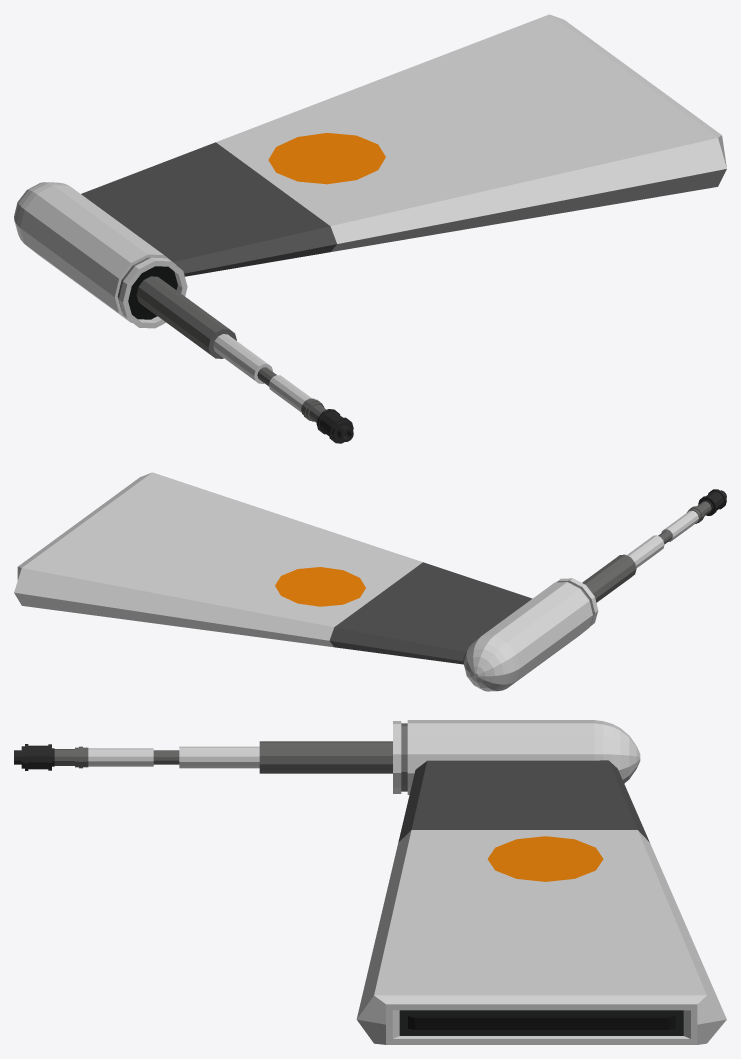
File: bwing_wing_r.glb
3 views of the same model, one above another, from view 1: azimuth 30°, elevation 25°; view 2: azimuth 150°, elevation 25°; view 3: azimuth 270°, elevation 25° (orthographic). The views are drawn at different scales.
Parts seen in each view (by area): view 1: bwing_wing_r; view 2: bwing_wing_r; view 3: bwing_wing_r.
Part boxes in pixels (x1,y1,x2,y2): bwing_wing_r: [14, 14, 726, 443]; bwing_wing_r: [14, 472, 726, 691]; bwing_wing_r: [14, 720, 726, 1044].
Size of the model in its own units: 4.88 by 0.541 by 5.13.
Materials: 2 (2 with a texture image).
